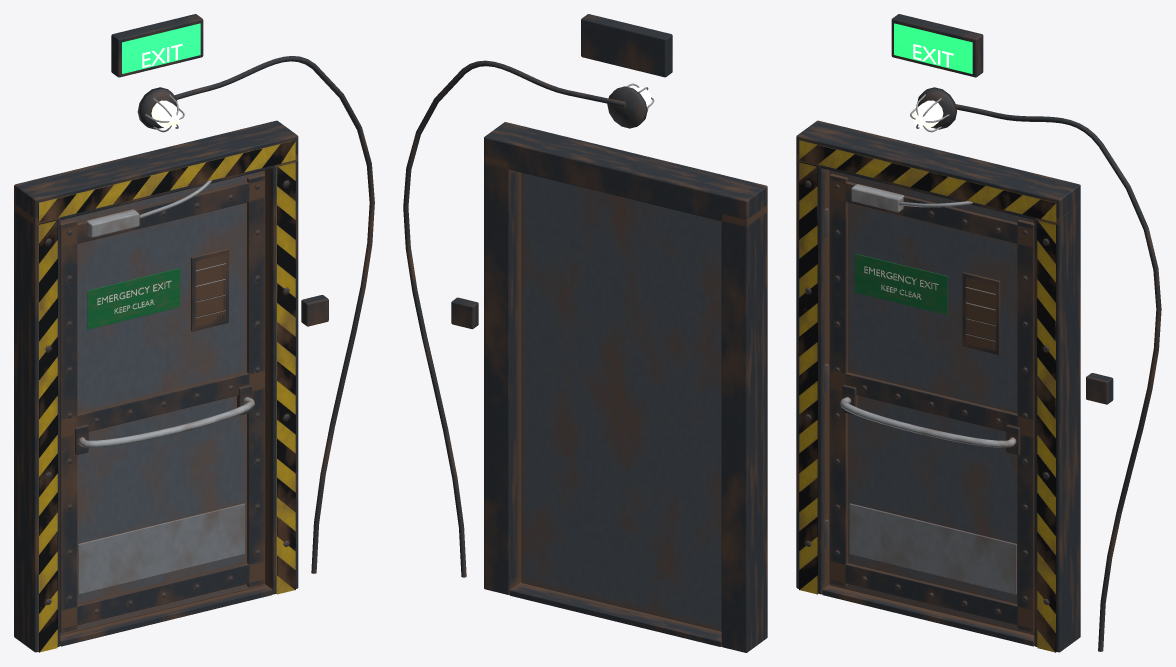
Rendered from huta_drzwi.glb.
3 renders of one model, left to right at view 1: azimuth 30°, elevation 25°; view 2: azimuth 150°, elevation 25°; view 3: azimuth 330°, elevation 25°, orthographic.
Visible parts, largest first — view 1: Drzwi, Szewrony, Tabliczka, SwiatloExit, Swiatlo; view 2: Drzwi; view 3: Drzwi, Szewrony, Tabliczka, SwiatloExit, Swiatlo.
Boxes of the visible parts, x1,y1,x2,y2 form: Drzwi: [14, 14, 374, 652]; Szewrony: [38, 140, 295, 652]; Tabliczka: [87, 268, 180, 329]; SwiatloExit: [122, 23, 200, 73]; Swiatlo: [151, 100, 181, 128]; Drzwi: [403, 14, 767, 652]; Drzwi: [796, 14, 1161, 652]; Szewrony: [799, 140, 1056, 652]; Tabliczka: [855, 253, 947, 314]; SwiatloExit: [894, 23, 972, 73]; Swiatlo: [913, 100, 943, 128].
Size of the model in its own units: 1.9 by 3.02 by 0.3105.
Materials: 6 (3 with a texture image).
